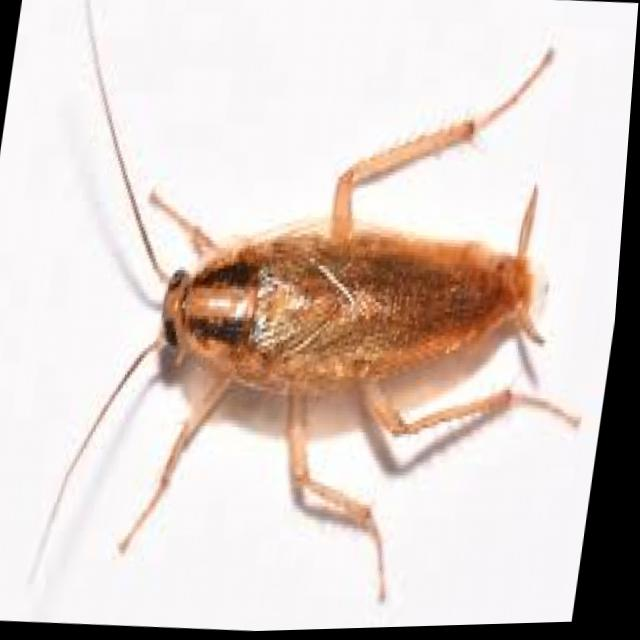Cockroach: (18, 0, 640, 630)
